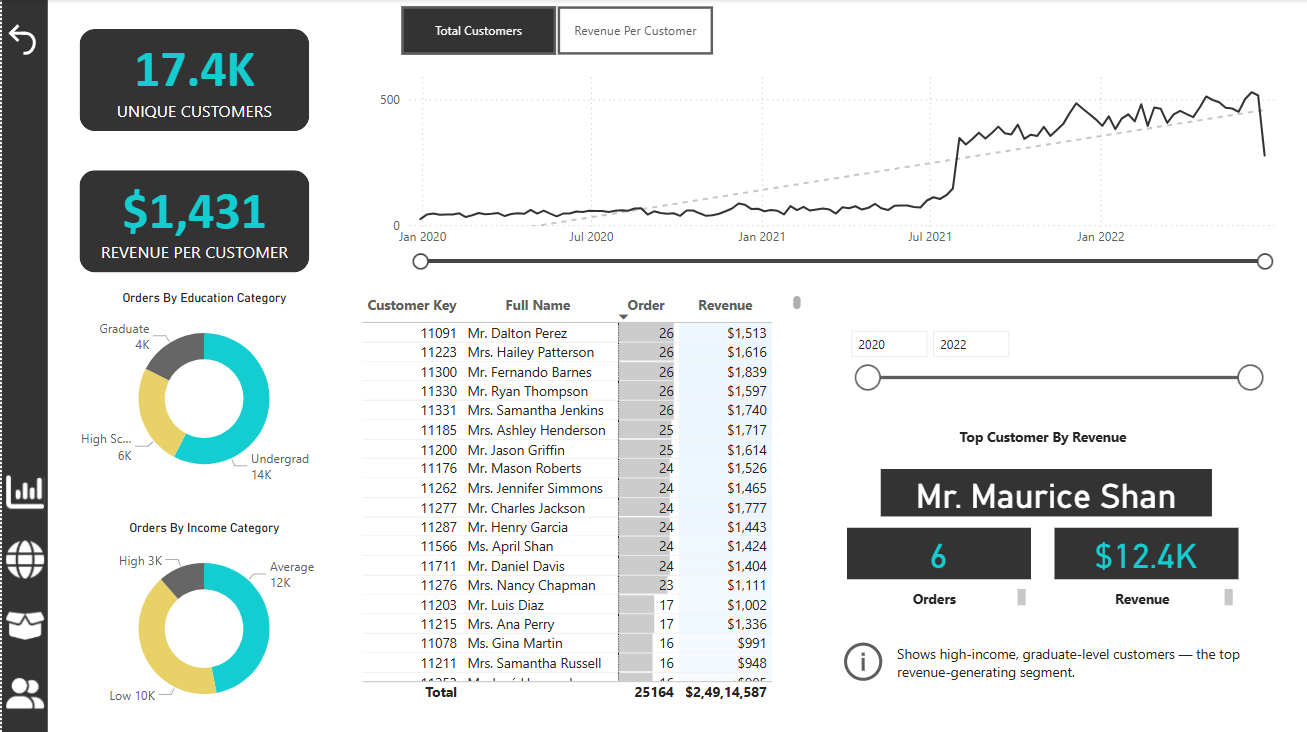

The dashboard page shown, as its layout file describes it:
{"tool":"powerbi","page":{"name":"Customer Details","canvas":[1280,720],"ordinal":3},"visuals":[{"type":"shape","box":[0,0,45,719.7],"z":0},{"type":"shape","box":[76.3,29.4,225,100],"z":0,"group":"g1"},{"type":"shape","box":[76.3,167.5,225,100],"z":0,"group":"g2"},{"type":"group","id":"g1","title":"Group 1","box":[76.3,5.3,225,140.8],"z":1000},{"type":"card","fields":{"Values":["Measure Table.Total Customers"]},"box":[80.9,5.3,215.8,140.8],"z":2000,"group":"g1"},{"type":"group","id":"g2","title":"Group 1","box":[76.3,143.4,225,140.8],"z":2000},{"type":"card","fields":{"Values":["Measure Table.Average Revenue Per Customer"]},"box":[80.9,143.4,215.8,140.8],"z":2000,"group":"g2"},{"type":"lineChart","fields":{"Y":["Measure Table.Total Customers"],"Category":["Calendar Lookup.Date Hierarchy.Start of Year","Calendar Lookup.Date Hierarchy.Start of Month","Calendar Lookup.Date Hierarchy.Start of Week","Calendar Lookup.Date Hierarchy.Date"]},"box":[365,60,900,207.5],"z":3000},{"type":"donutChart","title":"Orders By Education Category","fields":{"Category":["Customer Lookup 1.Education Category"],"Y":["Measure Table.Total Order"]},"box":[68.9,284.4,258.9,198.9],"z":4000},{"type":"card","fields":{"Values":["Min(Customer Lookup 1.Customer Full Name (CC))"]},"box":[859.2,460.2,324.1,46.5],"z":4000,"group":"g3"},{"type":"donutChart","title":"Orders By Income Category","fields":{"Y":["Measure Table.Total Order"],"Category":["Customer Lookup 1.Income Level"]},"box":[68.9,510,258.9,198.9],"z":5000},{"type":"card","fields":{"Values":["Measure Table.Total Order"]},"box":[826.2,517.7,179.8,50.1],"z":5000,"group":"g3"},{"type":"tableEx","fields":{"Values":["Customer Lookup 1.CustomerKey","Customer Lookup 1.Customer Full Name (CC)","Measure Table.Total Order","Measure Table.Total Revenue"]},"box":[346.2,285,441.2,406.2],"z":6000},{"type":"card","fields":{"Values":["Measure Table.Total Revenue"]},"box":[1029.2,517.7,179.8,50.1],"z":6000,"group":"g3"},{"type":"slicer","fields":{"Values":["Calendar Lookup.Year"]},"box":[817.5,313.8,423.8,93.8],"z":7000},{"type":"actionButton","box":[0,19.6,45.2,40.4],"z":8000},{"type":"textbox","box":[871.2,626.2,396.2,45],"z":9000},{"type":"textbox","box":[825,572.7,181,26.9],"z":10000,"group":"g3"},{"type":"actionButton","box":[817.5,617.5,48.8,61.2],"z":10000},{"type":"textbox","box":[931.4,415,179.8,28.1],"z":11000,"group":"g3"},{"type":"actionButton","box":[0,457.3,45.2,50.1],"z":11000},{"type":"textbox","box":[1029.2,572.7,179.8,26.9],"z":12000,"group":"g3"},{"type":"actionButton","box":[0,588.6,45.2,50.1],"z":12000},{"type":"actionButton","box":[0,654.2,45.2,50.1],"z":13000},{"type":"actionButton","box":[0,523,45.2,50.1],"z":14000},{"type":"slicer","fields":{"Values":["Customer Metric Selection.Customer Metric Selection"]},"box":[365,0,355,61.2],"z":15000},{"type":"group","id":"g3","title":"Group 2","box":[825,415,383.8,185],"z":16000}]}

Visuals, with their boxes on the page's 1280x720 design canvas (x1, y1, x2, y2). These are canvas units, not pixel positions in the 1307x732 screenshot, which may show the page scaled, cropped or inside an application window:
shape: Rect(0, 0, 45, 720)
shape: Rect(76, 29, 301, 129)
shape: Rect(76, 168, 301, 268)
"Group 1" group: Rect(76, 5, 301, 146)
card - Measure Table.Total Customers: Rect(81, 5, 297, 146)
"Group 1" group: Rect(76, 143, 301, 284)
card - Measure Table.Average Revenue Per Customer: Rect(81, 143, 297, 284)
lineChart - Measure Table.Total Customers x Calendar Lookup.Date Hierarchy.Start of Year: Rect(365, 60, 1265, 268)
"Orders By Education Category" donutChart: Rect(69, 284, 328, 483)
card - Min(Customer Lookup 1.Customer Full Name (CC)): Rect(859, 460, 1183, 507)
"Orders By Income Category" donutChart: Rect(69, 510, 328, 709)
card - Measure Table.Total Order: Rect(826, 518, 1006, 568)
tableEx - Customer Lookup 1.CustomerKey x Customer Lookup 1.Customer Full Name (CC): Rect(346, 285, 787, 691)
card - Measure Table.Total Revenue: Rect(1029, 518, 1209, 568)
slicer - Calendar Lookup.Year: Rect(818, 314, 1241, 408)
actionButton: Rect(0, 20, 45, 60)
textbox: Rect(871, 626, 1267, 671)
textbox: Rect(825, 573, 1006, 600)
actionButton: Rect(818, 618, 866, 679)
textbox: Rect(931, 415, 1111, 443)
actionButton: Rect(0, 457, 45, 507)
textbox: Rect(1029, 573, 1209, 600)
actionButton: Rect(0, 589, 45, 639)
actionButton: Rect(0, 654, 45, 704)
actionButton: Rect(0, 523, 45, 573)
slicer - Customer Metric Selection.Customer Metric Selection: Rect(365, 0, 720, 61)
"Group 2" group: Rect(825, 415, 1209, 600)
